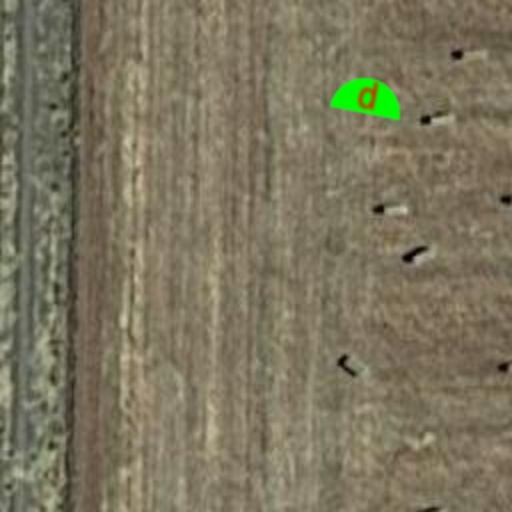semicircle: (326, 54, 410, 138)
